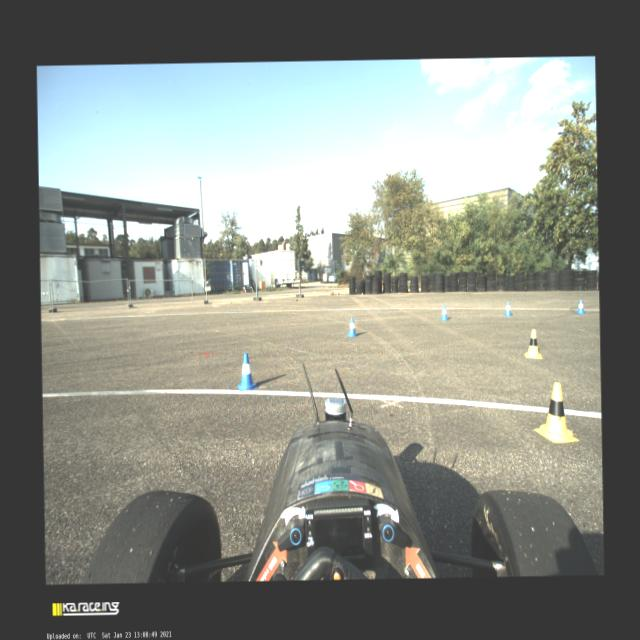blue_cone: (236, 352, 257, 390), (346, 316, 357, 337), (576, 298, 585, 314), (503, 301, 512, 316), (440, 304, 448, 320)
yellow_cone: (533, 382, 578, 442), (524, 328, 542, 359)
